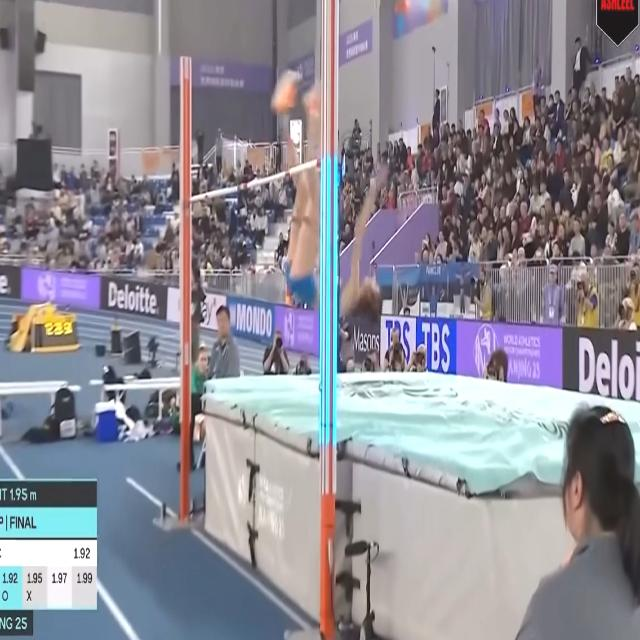land: (271, 67, 389, 325)
